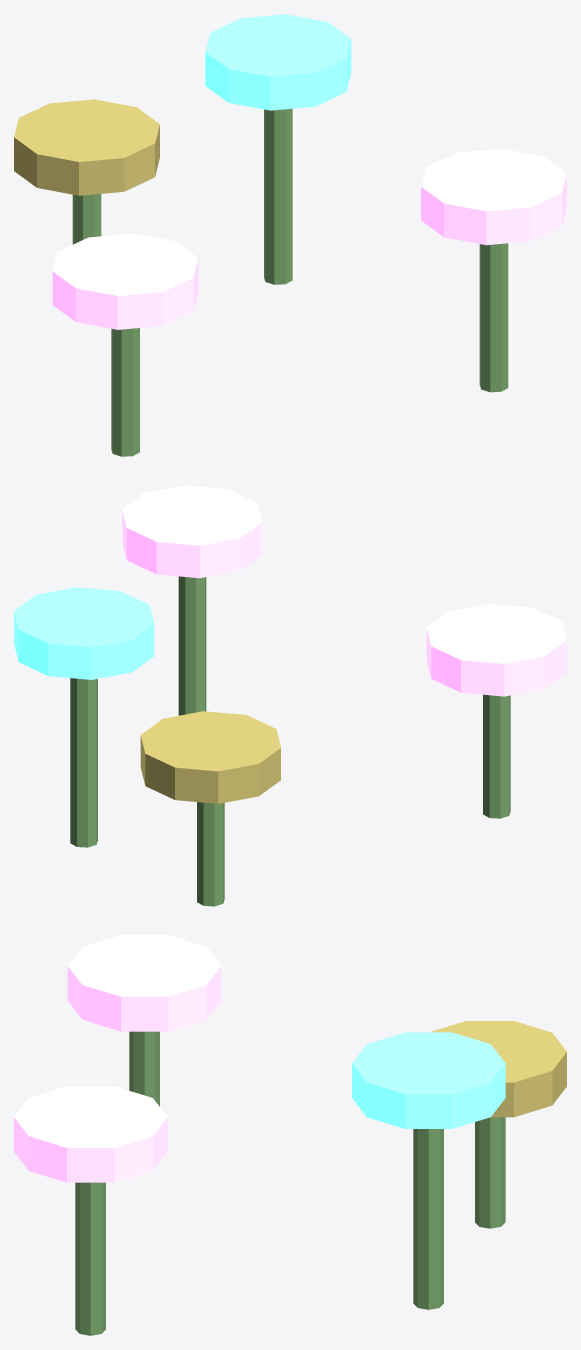
File: flower_cluster.glb
The picture shows the model from 3 angles, top to bottom: view 1: azimuth 30°, elevation 25°; view 2: azimuth 150°, elevation 25°; view 3: azimuth 270°, elevation 25°; orthographic projection. The views are drawn at different scales.
Visible parts, largest first — view 1: Blossom_0, Blossom_1, Blossom_2, Blossom_3, Stem_1, Stem_3, Stem_0, Stem_2; view 2: Blossom_3, Blossom_0, Blossom_1, Blossom_2, Stem_1, Stem_3, Stem_0, Stem_2; view 3: Blossom_0, Blossom_1, Blossom_3, Blossom_2, Stem_1, Stem_3, Stem_2, Stem_0.
Boxes of the visible parts, x1,y1,x2,y2 form: Blossom_0: [52, 233, 198, 329]; Blossom_1: [205, 14, 351, 110]; Blossom_2: [14, 99, 159, 195]; Blossom_3: [421, 148, 566, 245]; Stem_1: [264, 108, 292, 284]; Stem_3: [479, 243, 508, 392]; Stem_0: [111, 328, 139, 456]; Stem_2: [72, 194, 101, 244]; Blossom_3: [122, 485, 262, 578]; Blossom_0: [426, 603, 566, 696]; Blossom_1: [14, 587, 154, 679]; Blossom_2: [140, 711, 280, 803]; Stem_1: [70, 678, 97, 847]; Stem_3: [178, 576, 206, 715]; Stem_0: [483, 694, 510, 818]; Stem_2: [197, 802, 224, 906]; Blossom_0: [67, 935, 221, 1031]; Blossom_1: [352, 1032, 505, 1128]; Blossom_3: [14, 1086, 167, 1182]; Blossom_2: [430, 1021, 566, 1117]; Stem_1: [413, 1129, 443, 1309]; Stem_3: [75, 1182, 105, 1335]; Stem_2: [475, 1117, 505, 1228]; Stem_0: [129, 1031, 159, 1106].
Size of the model in its own units: 0.7202 by 0.345 by 0.72.
